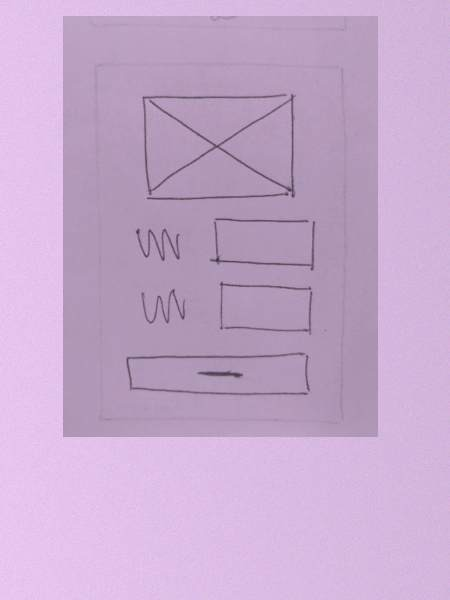button: (116, 346, 323, 402)
image: (135, 90, 305, 207)
text: (132, 287, 201, 329), (126, 225, 192, 259)
text_input: (210, 213, 321, 274), (212, 281, 321, 341)
